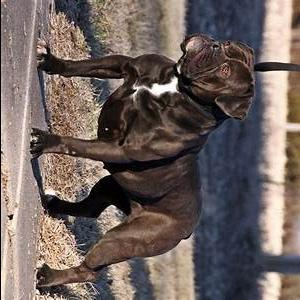dog: (28, 32, 300, 288)
